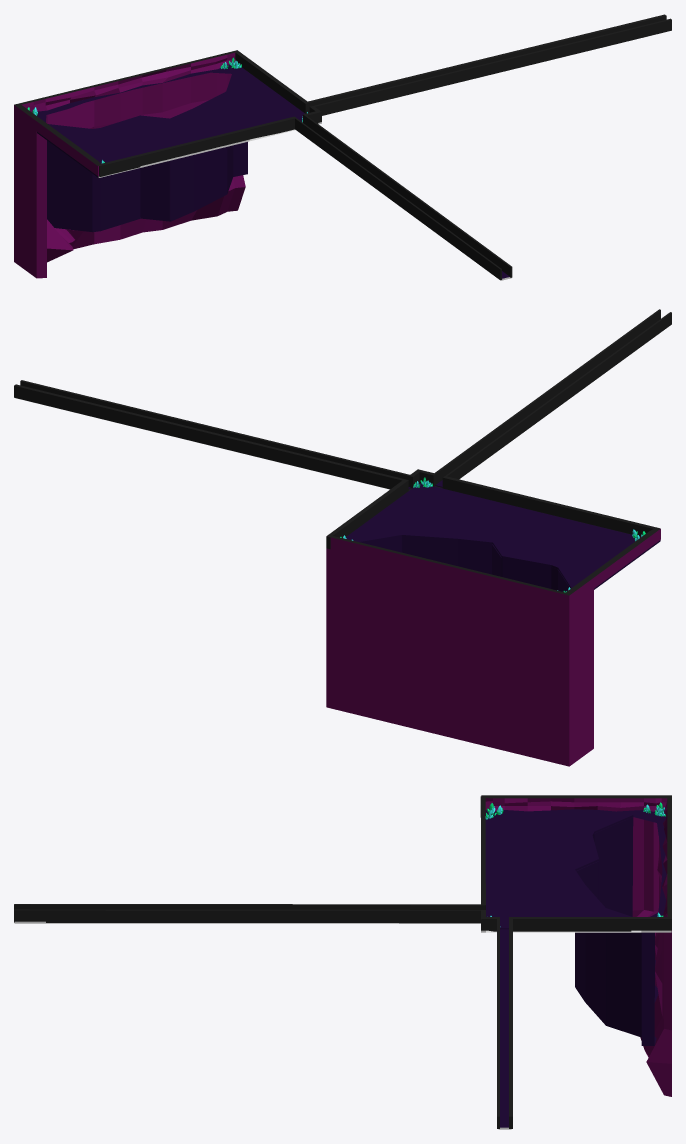
The model's file is salaJEFE3.fbx.
The picture shows the model from 3 angles, top to bottom: view 1: azimuth 30°, elevation 25°; view 2: azimuth 150°, elevation 25°; view 3: azimuth 270°, elevation 25°; orthographic projection. The views are drawn at different scales.
Parts seen in each view (by area): view 1: sueloBOSS3, paredes_izq_arribaBOSS3, paredes_der_abajoBOSS3; view 2: paredes_izq_arribaBOSS3, paredes_der_abajoBOSS3, sueloBOSS3; view 3: sueloBOSS3, paredes_der_abajoBOSS3, paredes_izq_arribaBOSS3.
Boxes of the visible parts, bbox=[...] form: sueloBOSS3: bbox=[37, 64, 511, 280]; paredes_izq_arribaBOSS3: bbox=[14, 50, 245, 278]; paredes_der_abajoBOSS3: bbox=[99, 14, 671, 280]; paredes_izq_arribaBOSS3: bbox=[326, 528, 660, 766]; paredes_der_abajoBOSS3: bbox=[14, 309, 671, 549]; sueloBOSS3: bbox=[15, 398, 660, 591]; sueloBOSS3: bbox=[14, 809, 671, 1129]; paredes_der_abajoBOSS3: bbox=[14, 796, 671, 1128]; paredes_izq_arribaBOSS3: bbox=[481, 795, 671, 1096].
Bounding box in the file's own units: 54208 × 14027 × 46961.
